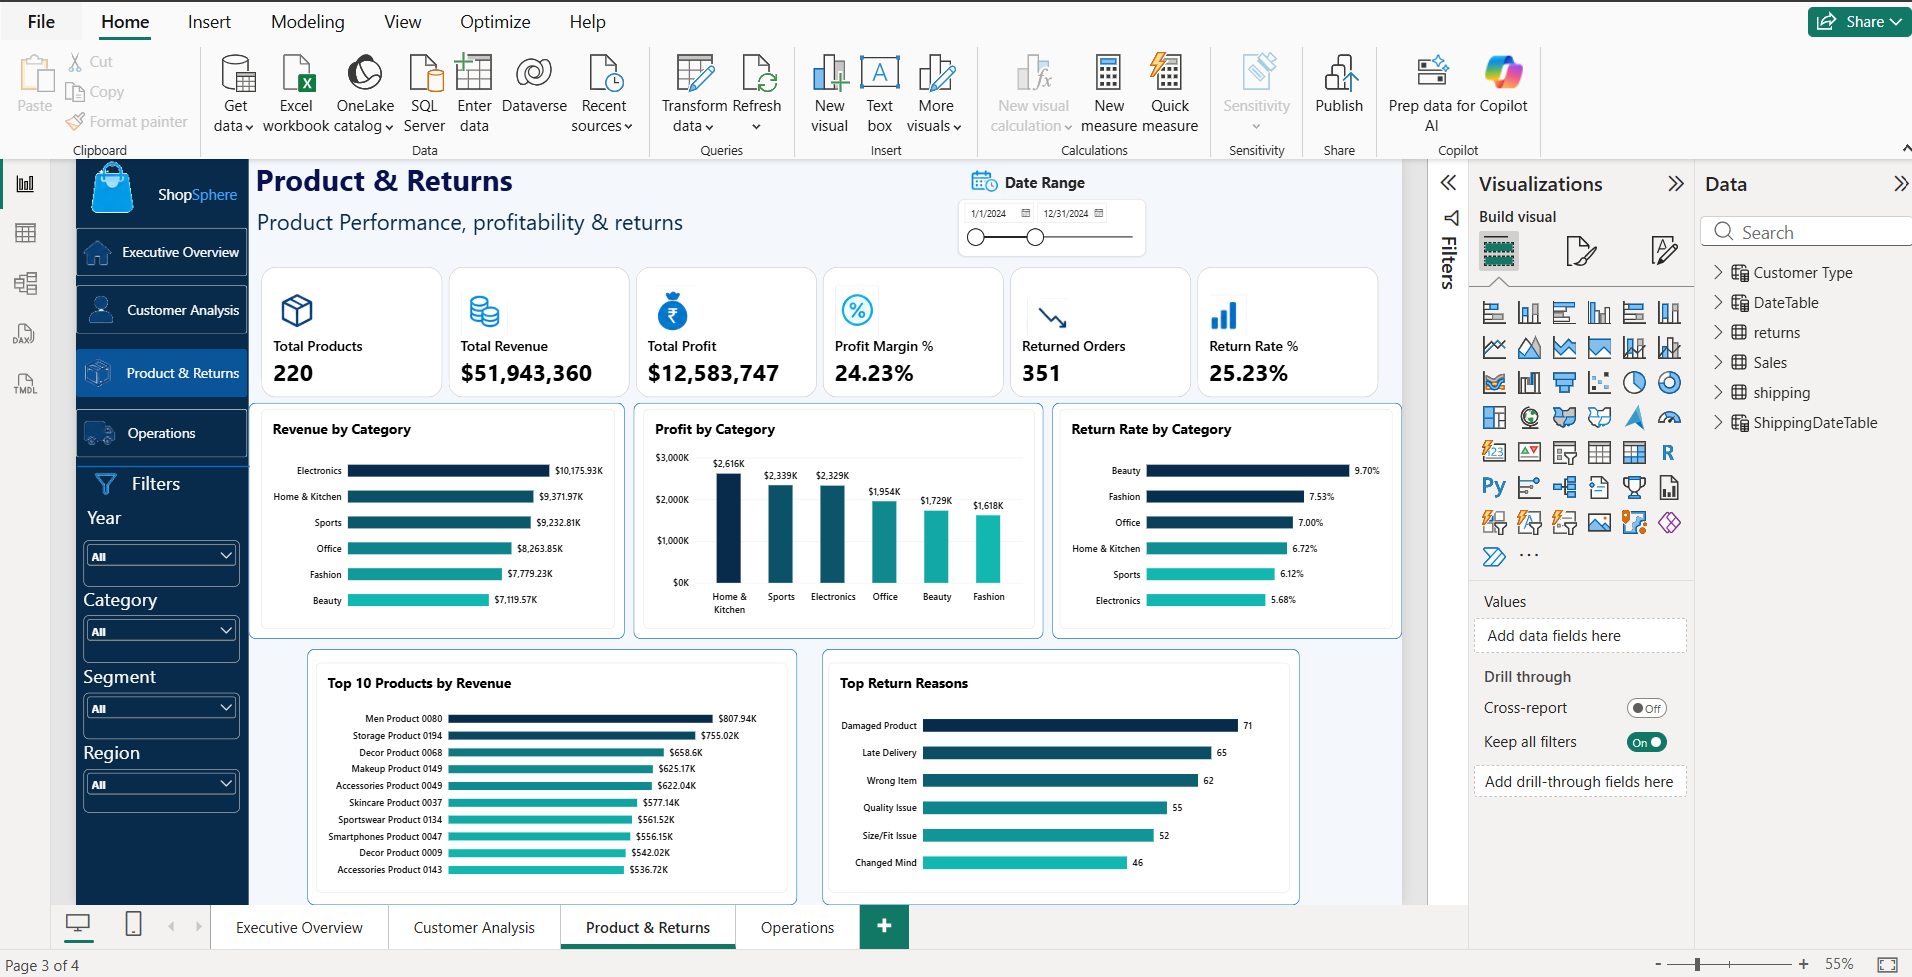

What the dashboard file says about the page in this screenshot:
{"tool":"powerbi","page":{"name":"Product & Returns","canvas":[1920,1080],"ordinal":2},"visuals":[{"type":"cardVisual","fields":{"Data":["Sales.Total Products","Sales.Total Revenue","Sales.Total Profit","Sales.Profit Margin %","Sales.Returned Orders","Sales.Return Rate %"]},"box":[267.8,155.6,1623.3,190],"z":0},{"type":"shape","box":[0,0,250,1080],"z":1000},{"type":"textbox","box":[249.7,0,1634.1,153.8],"z":2000},{"type":"shape","box":[249.7,352.9,544.7,342],"z":3000},{"type":"shape","box":[807.1,352.9,593.6,342],"z":4000},{"type":"slicer","fields":{"Values":["DateTable.Year"]},"box":[10.9,551.9,226.2,67],"z":5000},{"type":"slicer","fields":{"Values":["Sales.category"]},"box":[10.9,660.5,226.2,68.8],"z":6000},{"type":"slicer","fields":{"Values":["Sales.segment"]},"box":[10.9,772.7,226.2,67],"z":7000},{"type":"slicer","fields":{"Values":["Sales.region"]},"box":[10.9,883.1,226.2,63.3],"z":8000},{"type":"shape","box":[1413.3,352.9,506.7,342],"z":9000},{"type":"shape","box":[334.8,709.4,709.4,371],"z":10000},{"type":"shape","box":[1080.4,709.4,691.3,371],"z":11000},{"type":"shape","box":[1.8,432.5,249.7,25.3],"z":12000},{"type":"image","box":[10.9,445.2,65.1,50.7],"z":13000},{"type":"textbox","box":[10.9,450.6,188.2,48.9],"z":14000},{"type":"textbox","box":[16.3,499.5,85.1,45.2],"z":15000},{"type":"textbox","box":[10.9,618.9,132.1,43.4],"z":16000},{"type":"textbox","box":[10.9,729.3,114,43.4],"z":17000},{"type":"textbox","box":[10.9,839.7,114,43.4],"z":18000},{"type":"image","box":[1277.6,0,67,57.9],"z":19000},{"type":"image","box":[0,0,106.8,89],"z":20000},{"type":"textbox","box":[103.2,0,146.6,88.7],"z":21000},{"type":"slicer","fields":{"Values":["DateTable.Date"]},"box":[1277.6,57.9,271.4,83.2],"z":22000},{"type":"textbox","box":[1344.6,0,204.5,57.9],"z":23000},{"type":"barChart","title":"Revenue by Category","fields":{"Category":["Sales.category"],"Y":["Sales.Total Revenue"]},"box":[267.8,361.9,512.1,318.5],"z":24000},{"type":"columnChart","title":"Profit by Category","fields":{"Category":["Sales.category"],"Y":["Sales.Total Profit"]},"box":[821.6,361.9,566.4,318.5],"z":25000},{"type":"barChart","title":"Return Rate by Category","fields":{"Category":["Sales.category"],"Y":["Sales.Return Rate by Category %"]},"box":[1424.2,361.9,481.4,318.5],"z":26000},{"type":"clusteredBarChart","title":"Top 10 Products by Revenue","fields":{"Y":["Sales.Total Revenue"],"Category":["Sales.product_name"]},"box":[347.5,729.3,682.2,333],"z":27000},{"type":"clusteredBarChart","title":"Top Return Reasons","fields":{"Category":["returns.return_reason"],"Y":["CountNonNull(returns.order_id)"]},"box":[1089.4,729.3,667.8,333],"z":28000},{"type":"pageNavigator","box":[0,99.5,248,70],"z":29000},{"type":"pageNavigator","box":[0,182.8,248,70],"z":30000},{"type":"pageNavigator","box":[0,275.1,248,70],"z":31000},{"type":"pageNavigator","box":[0,361.9,248,70],"z":32000},{"type":"image","box":[0,105,59.7,65.1],"z":33000},{"type":"image","box":[3.6,182.8,65.1,70.6],"z":34000},{"type":"image","box":[3.6,273.3,56.1,72.4],"z":35000},{"type":"image","box":[1.8,361.9,57.9,70.6],"z":36000}]}

Visuals, with their boxes on the page's 1920x1080 design canvas (x1, y1, x2, y2). These are canvas units, not pixel positions in the 1912x977 screenshot, which may show the page scaled, cropped or inside an application window:
cardVisual - Sales.Total Products x Sales.Total Revenue: 268,156,1891,346
shape: 0,0,250,1080
textbox: 250,0,1884,154
shape: 250,353,794,695
shape: 807,353,1401,695
slicer - DateTable.Year: 11,552,237,619
slicer - Sales.category: 11,660,237,729
slicer - Sales.segment: 11,773,237,840
slicer - Sales.region: 11,883,237,946
shape: 1413,353,1920,695
shape: 335,709,1044,1080
shape: 1080,709,1772,1080
shape: 2,432,252,458
image: 11,445,76,496
textbox: 11,451,199,500
textbox: 16,500,101,545
textbox: 11,619,143,662
textbox: 11,729,125,773
textbox: 11,840,125,883
image: 1278,0,1345,58
image: 0,0,107,89
textbox: 103,0,250,89
slicer - DateTable.Date: 1278,58,1549,141
textbox: 1345,0,1549,58
"Revenue by Category" barChart: 268,362,780,680
"Profit by Category" columnChart: 822,362,1388,680
"Return Rate by Category" barChart: 1424,362,1906,680
"Top 10 Products by Revenue" clusteredBarChart: 348,729,1030,1062
"Top Return Reasons" clusteredBarChart: 1089,729,1757,1062
pageNavigator: 0,100,248,170
pageNavigator: 0,183,248,253
pageNavigator: 0,275,248,345
pageNavigator: 0,362,248,432
image: 0,105,60,170
image: 4,183,69,253
image: 4,273,60,346
image: 2,362,60,432
